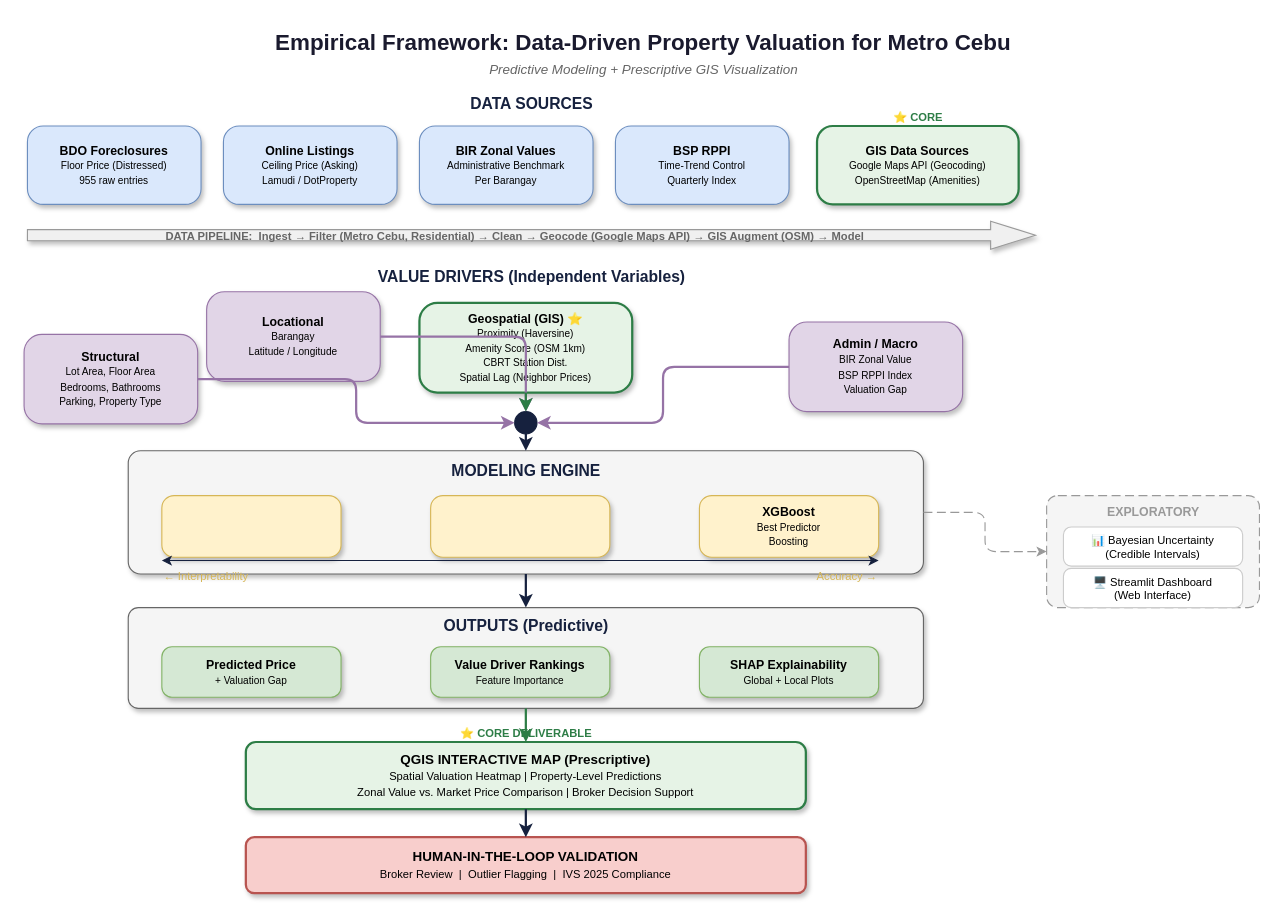
The diagram is 1279 pixels wide and 921 high, and some of its shapes have lost their labels. The centre of each missing label's shape, as x and y in pixels:
Hedonic OLS Baseline Interpretable: point 252,527
Random Forest Non-linear Robust: point 521,527
